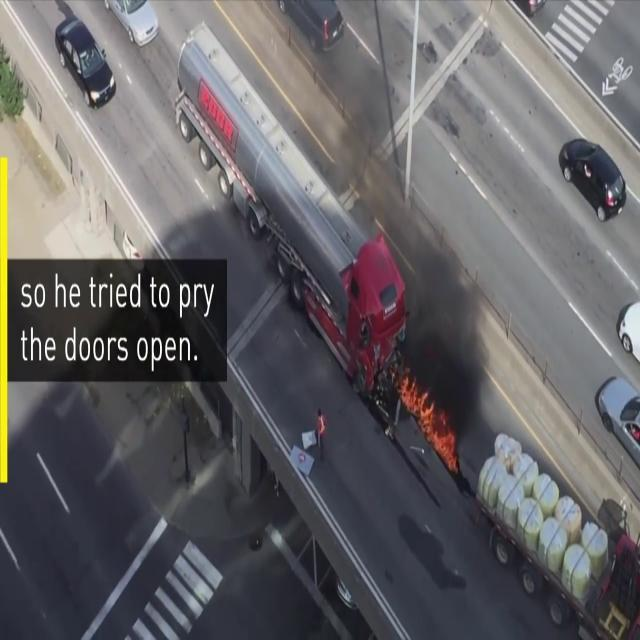Fire: (398, 364, 456, 458)
Smoke: (326, 82, 497, 390)
